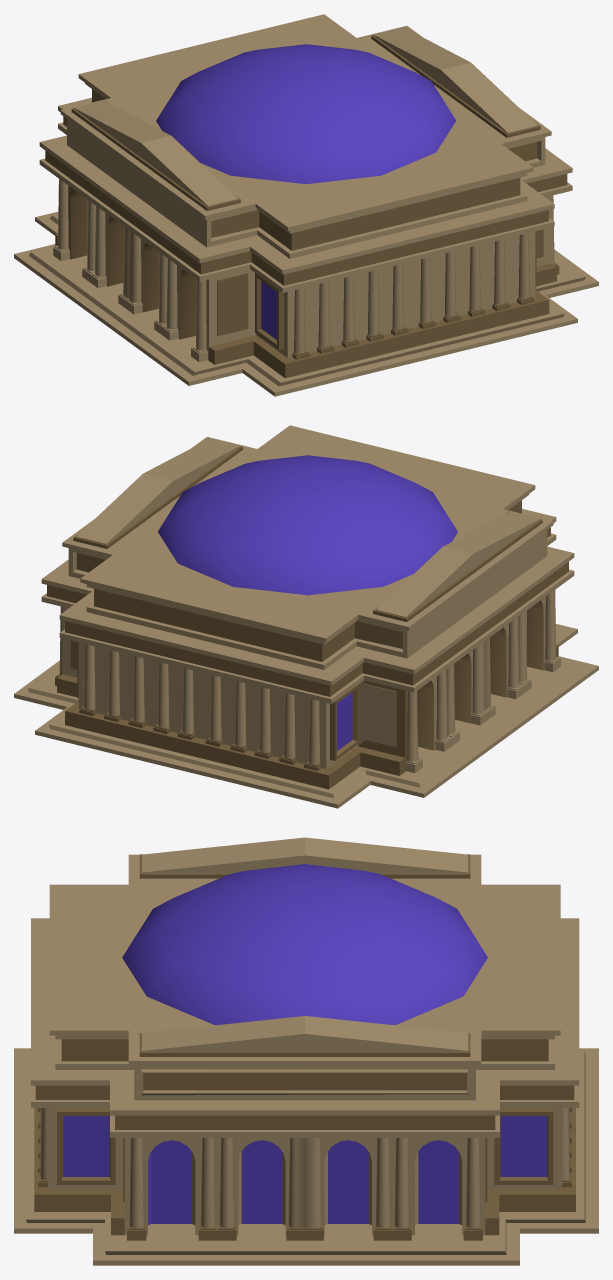
The model's file is Library.fbx.
3 renders of one model, top to bottom at view 1: azimuth 30°, elevation 25°; view 2: azimuth 150°, elevation 25°; view 3: azimuth 270°, elevation 25°, orthographic. The views are drawn at different scales.
Parts seen in each view (by area): view 1: Library; view 2: Library; view 3: Library.
Part boxes in pixels (x1=…): Library: x1=14, y1=14, x2=598, y2=396; Library: x1=14, y1=425, x2=598, y2=808; Library: x1=14, y1=837, x2=598, y2=1265.
Bounding box in the file's own units: 36.64 × 17.41 × 37.1.
